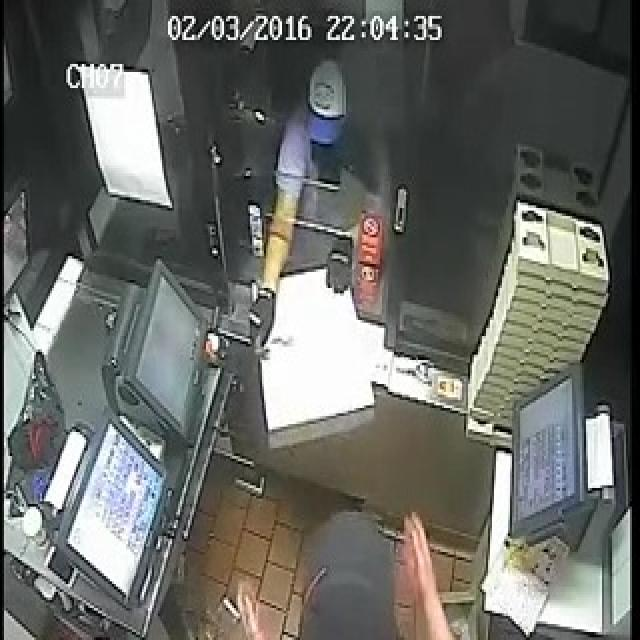thief: (290, 68, 399, 254)
